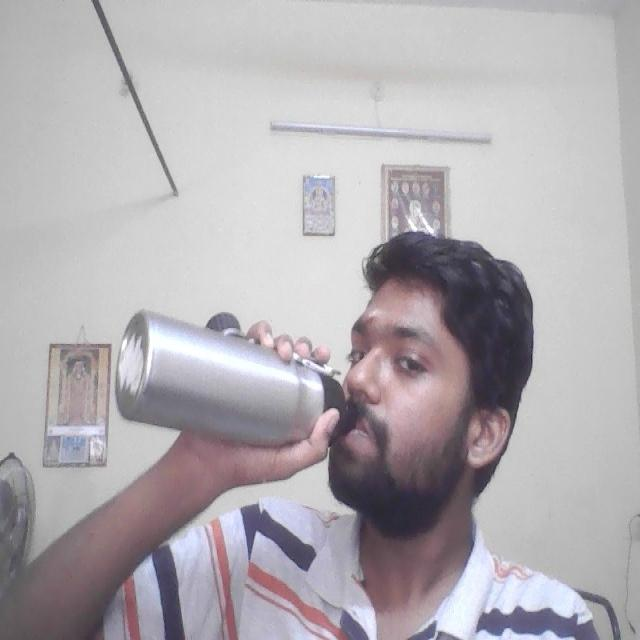Drinking: (115, 285, 358, 446)
